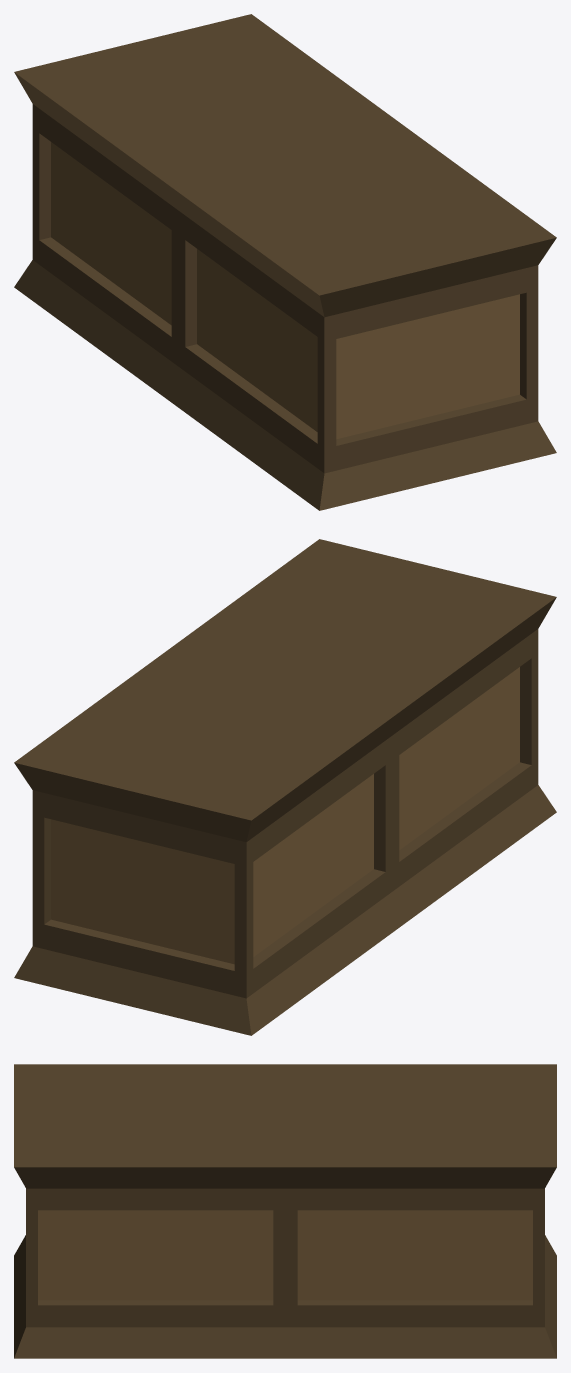
File: Stage_desk.fbx
The picture shows the model from 3 angles, top to bottom: view 1: azimuth 30°, elevation 25°; view 2: azimuth 150°, elevation 25°; view 3: azimuth 270°, elevation 25°; orthographic projection. The views are drawn at different scales.
Parts seen in each view (by area): view 1: Stage_desk; view 2: Stage_desk; view 3: Stage_desk.
Boxes of the visible parts, x1,y1,x2,y2 form: Stage_desk: (14, 14, 556, 510); Stage_desk: (14, 539, 556, 1035); Stage_desk: (14, 1064, 556, 1358).
Size of the model in its own units: 202 by 175 by 450.
